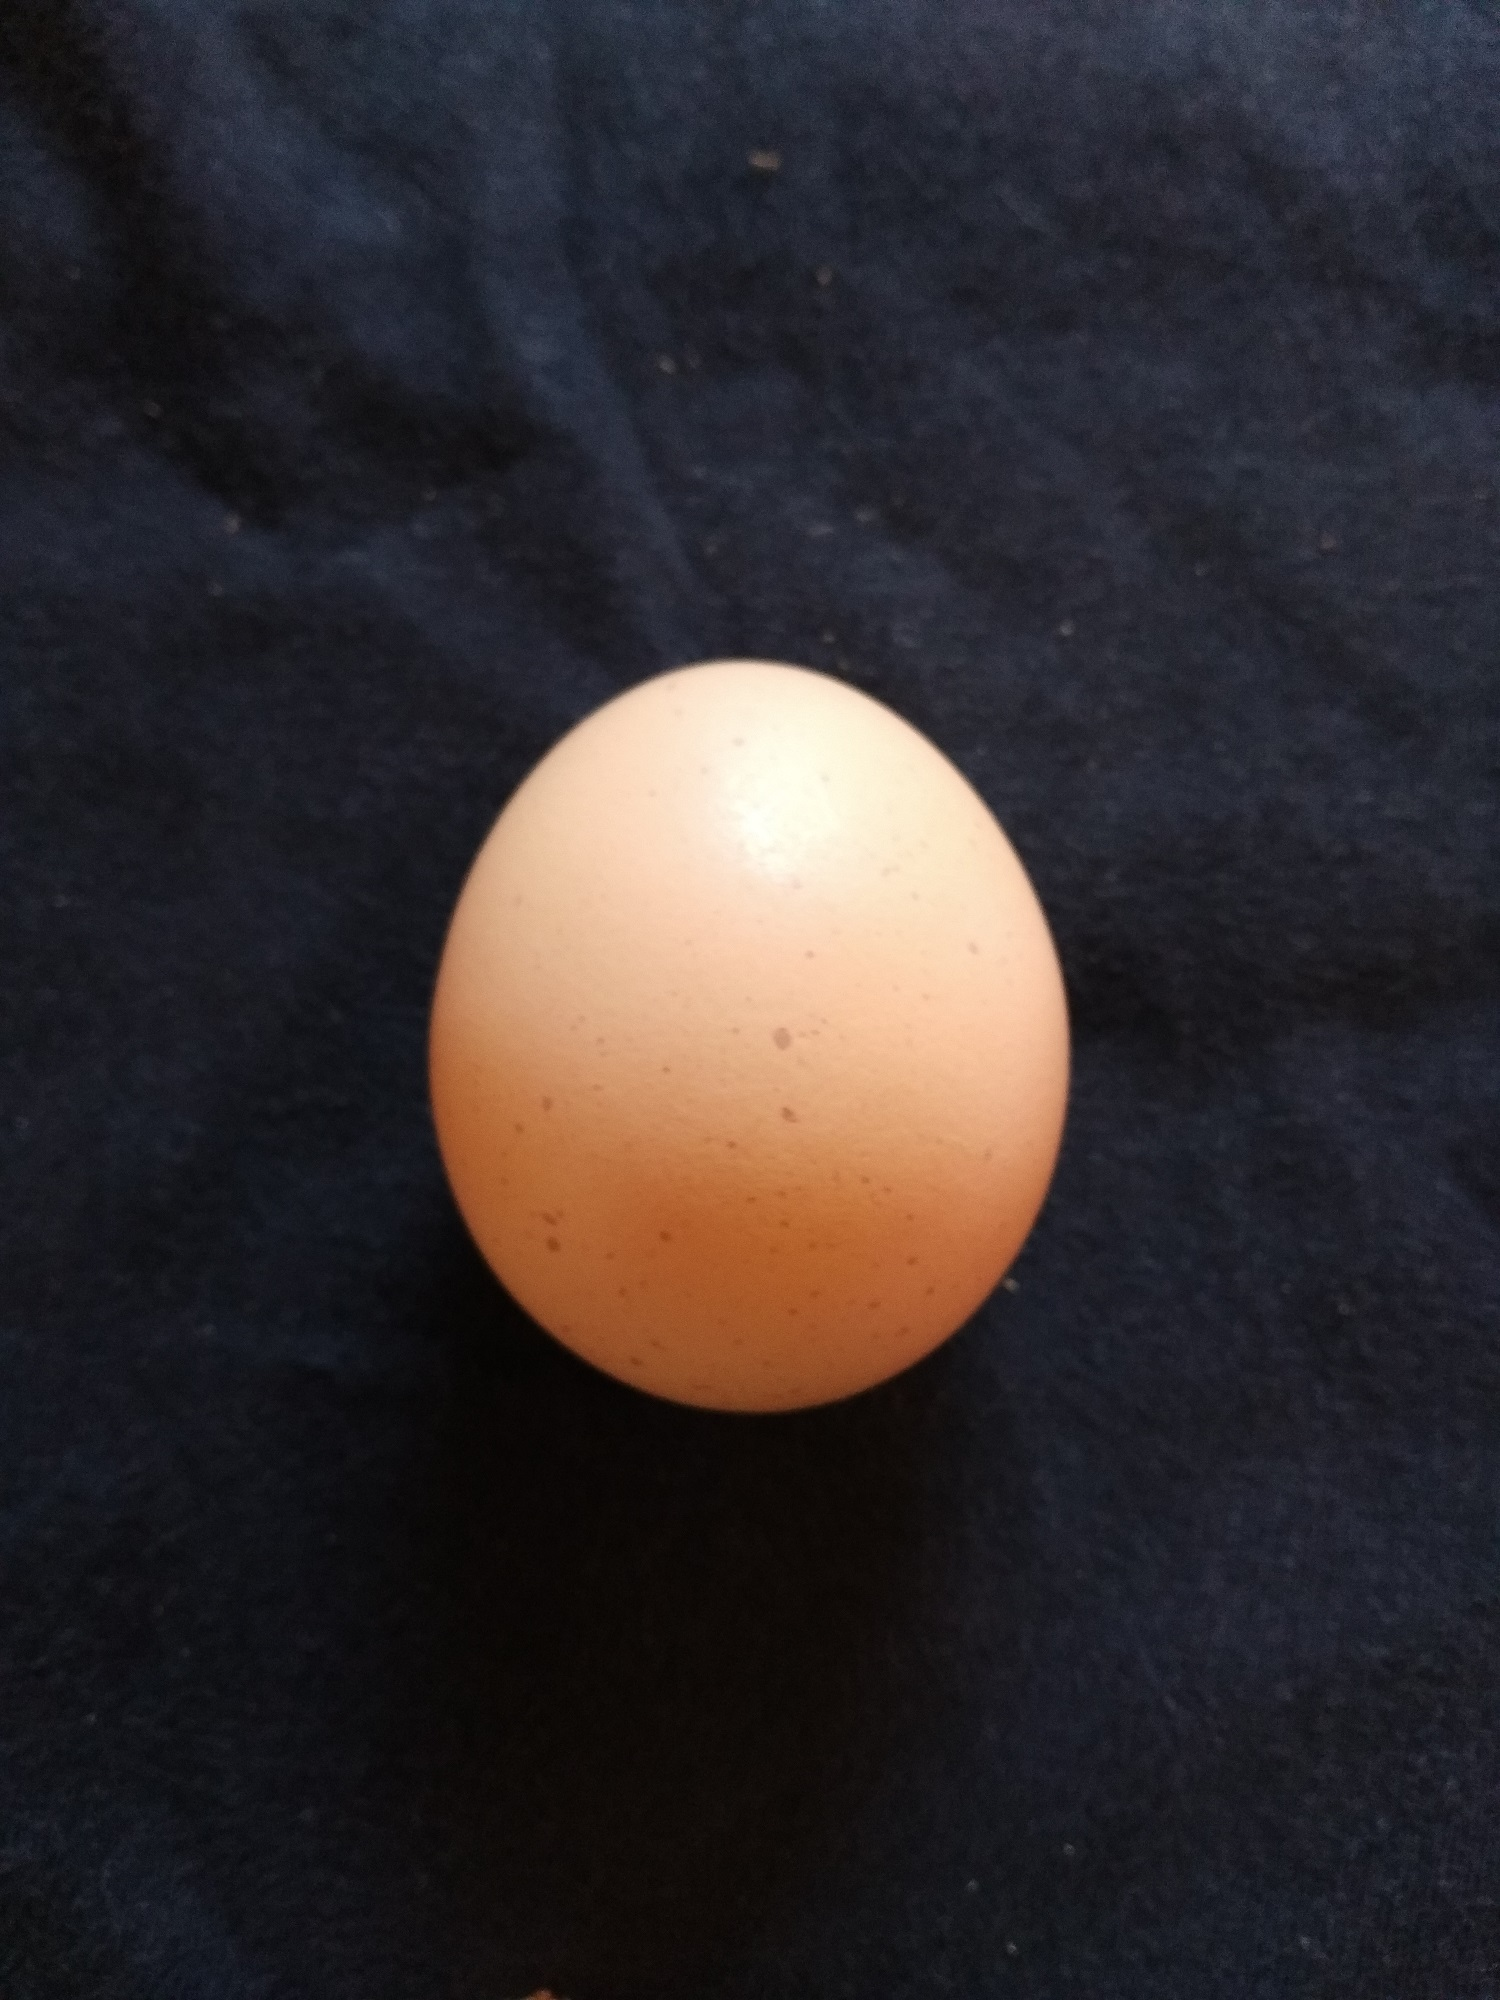Female: (418, 657, 1081, 1417)
